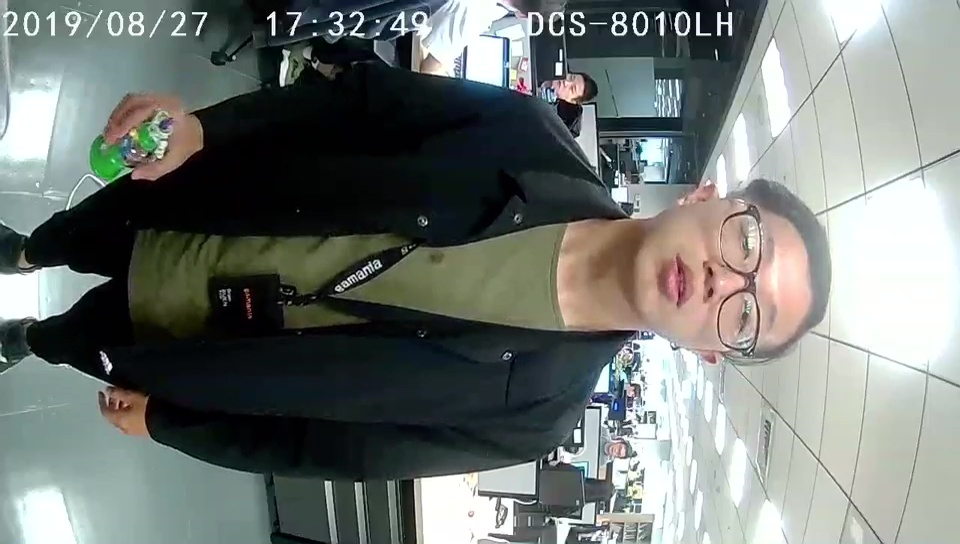buzz: (87, 108, 175, 182)
